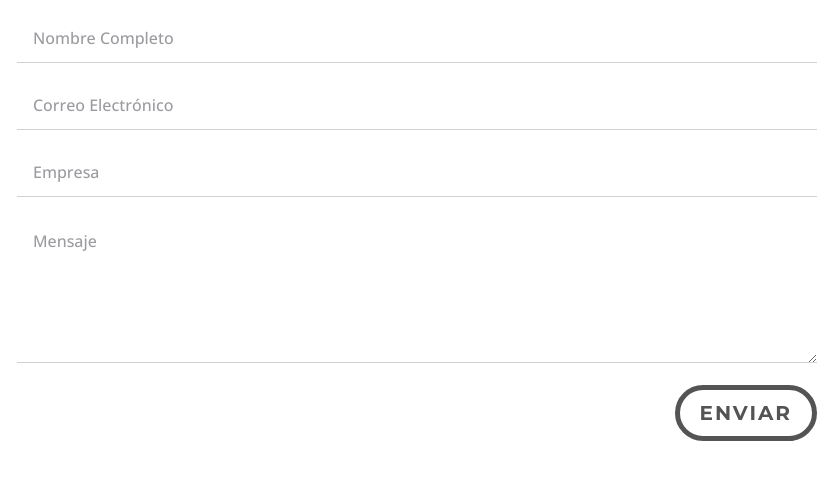
Test: ContactForm — estados de envio › mostra erro genérico na falha do provedor e preserva os dados
This screenshot has width=835, height=498.
Type "Necesito información sobre el curso." into the text box labelled "Mensaje" at (417, 288), box [17,213,817,363]
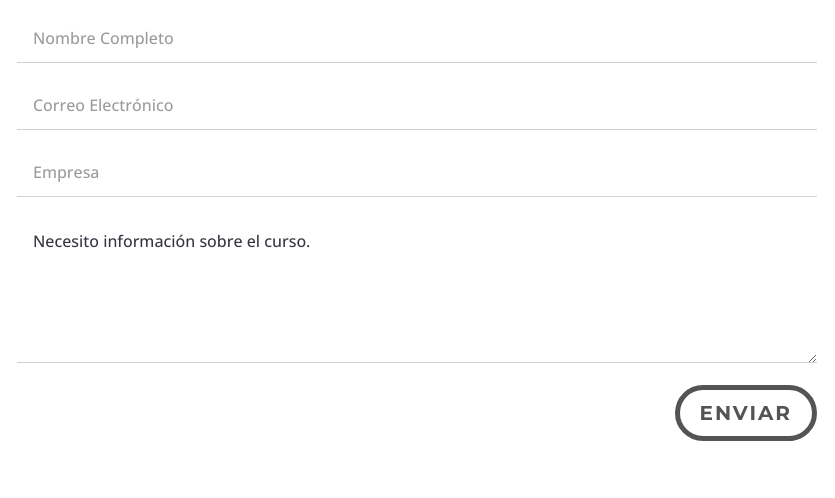
Click the button "Enviar" at (746, 413), box [674,385,817,441]
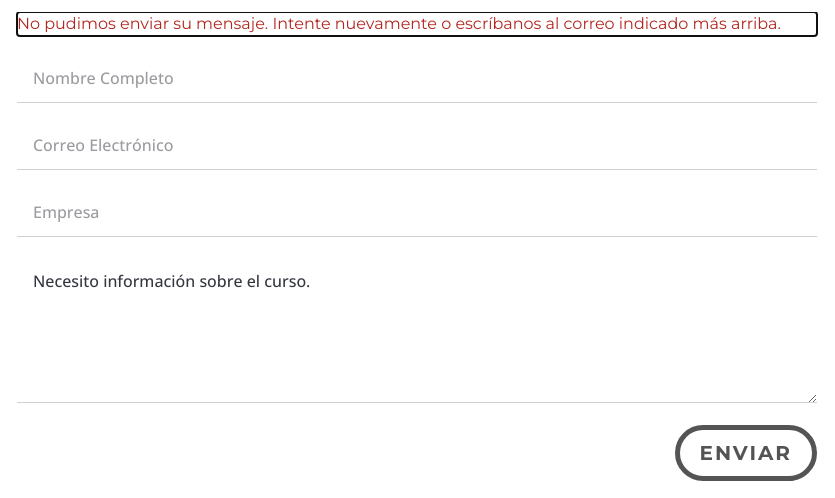
expect the text "No pudimos enviar su mensaje. Intente nuevamente o escríbanos al correo indicado más arriba." is shown: met, box [17,14,781,33]
